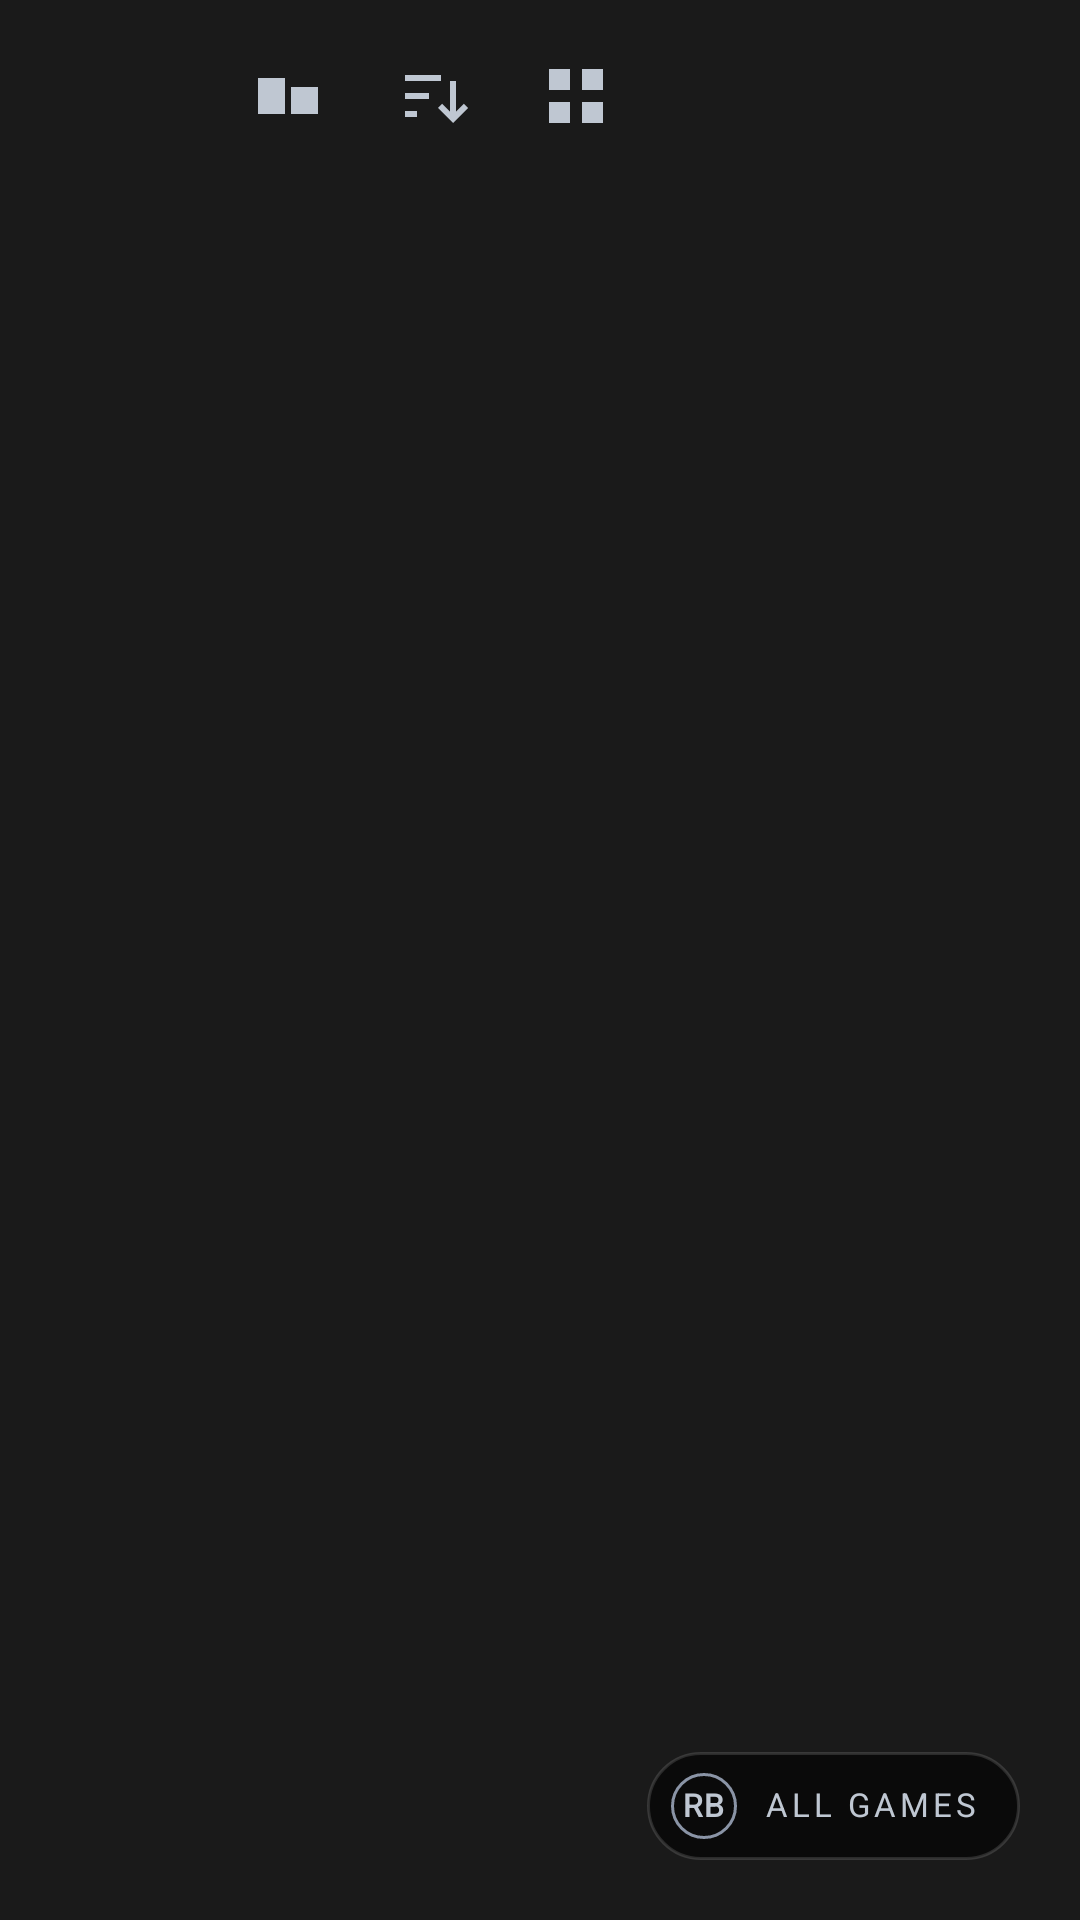

Named icons in this screenshot (1080×1920) and their centers, [x,y]:
All games: [576,96]
Hide companion screen: [288,96]
Sort: [436,99]
